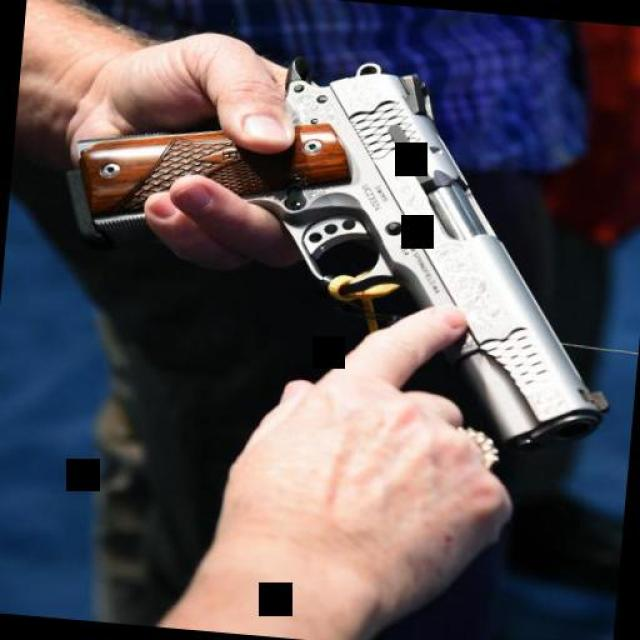gun: (50, 32, 636, 468)
